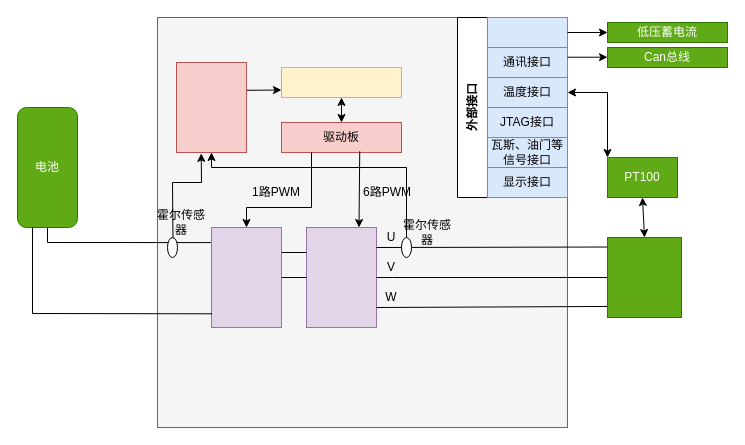
Image size: 745x445. Some labels were removed from this diagram. The shapes that lost their labels are listed below. From the top down, each one's box as (x1, y1, x2, y2) in pixels, then its label:
(486, 16, 568, 48): 供电接口
(280, 66, 402, 98): 核心板
(176, 62, 246, 152): 检测板
(210, 226, 282, 328): Boost升压斩波器
(306, 226, 376, 328): 三相逆变器
(606, 236, 682, 318): 电机
